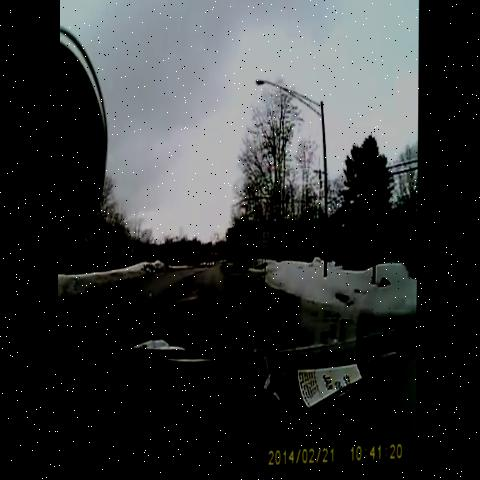pothole: (222, 276, 253, 333), (116, 309, 154, 346), (168, 277, 209, 309), (199, 335, 229, 356)
